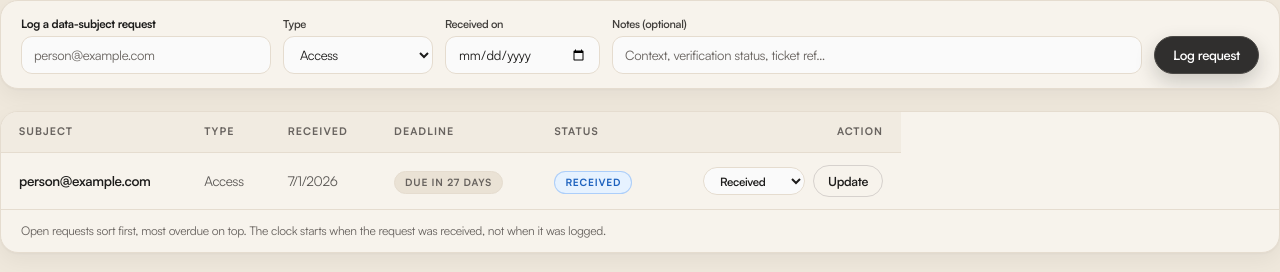
Test: RequestsTable › shows an inline error when a status update fails
Select "Fulfilled" in the dropdown named "Status for person@example.com" at (754,181), box 703,167 -> 805,195
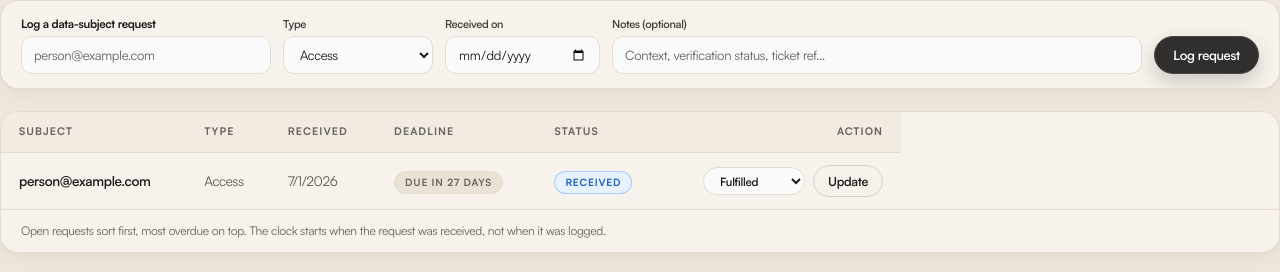
Click the button "Update" at (848,181), box 813,165 -> 883,197
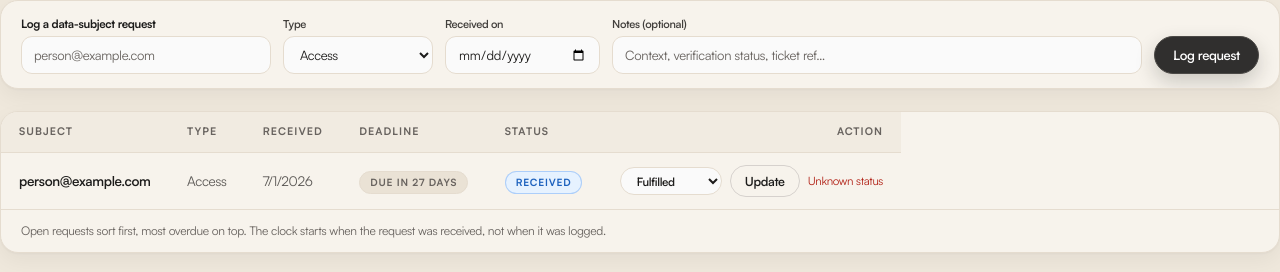
Now the text "Unknown status" is shown, box 808,172 -> 883,190
